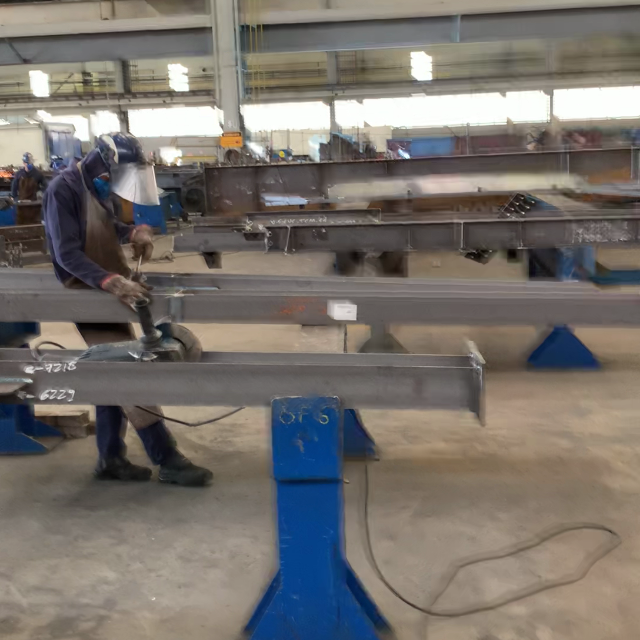face-shield: (108, 160, 161, 206)
glove: (101, 274, 154, 317), (130, 222, 154, 265)
helmet: (95, 130, 147, 161)
person: (43, 131, 162, 316)
safety-shoe: (93, 457, 155, 485), (157, 462, 215, 488)
